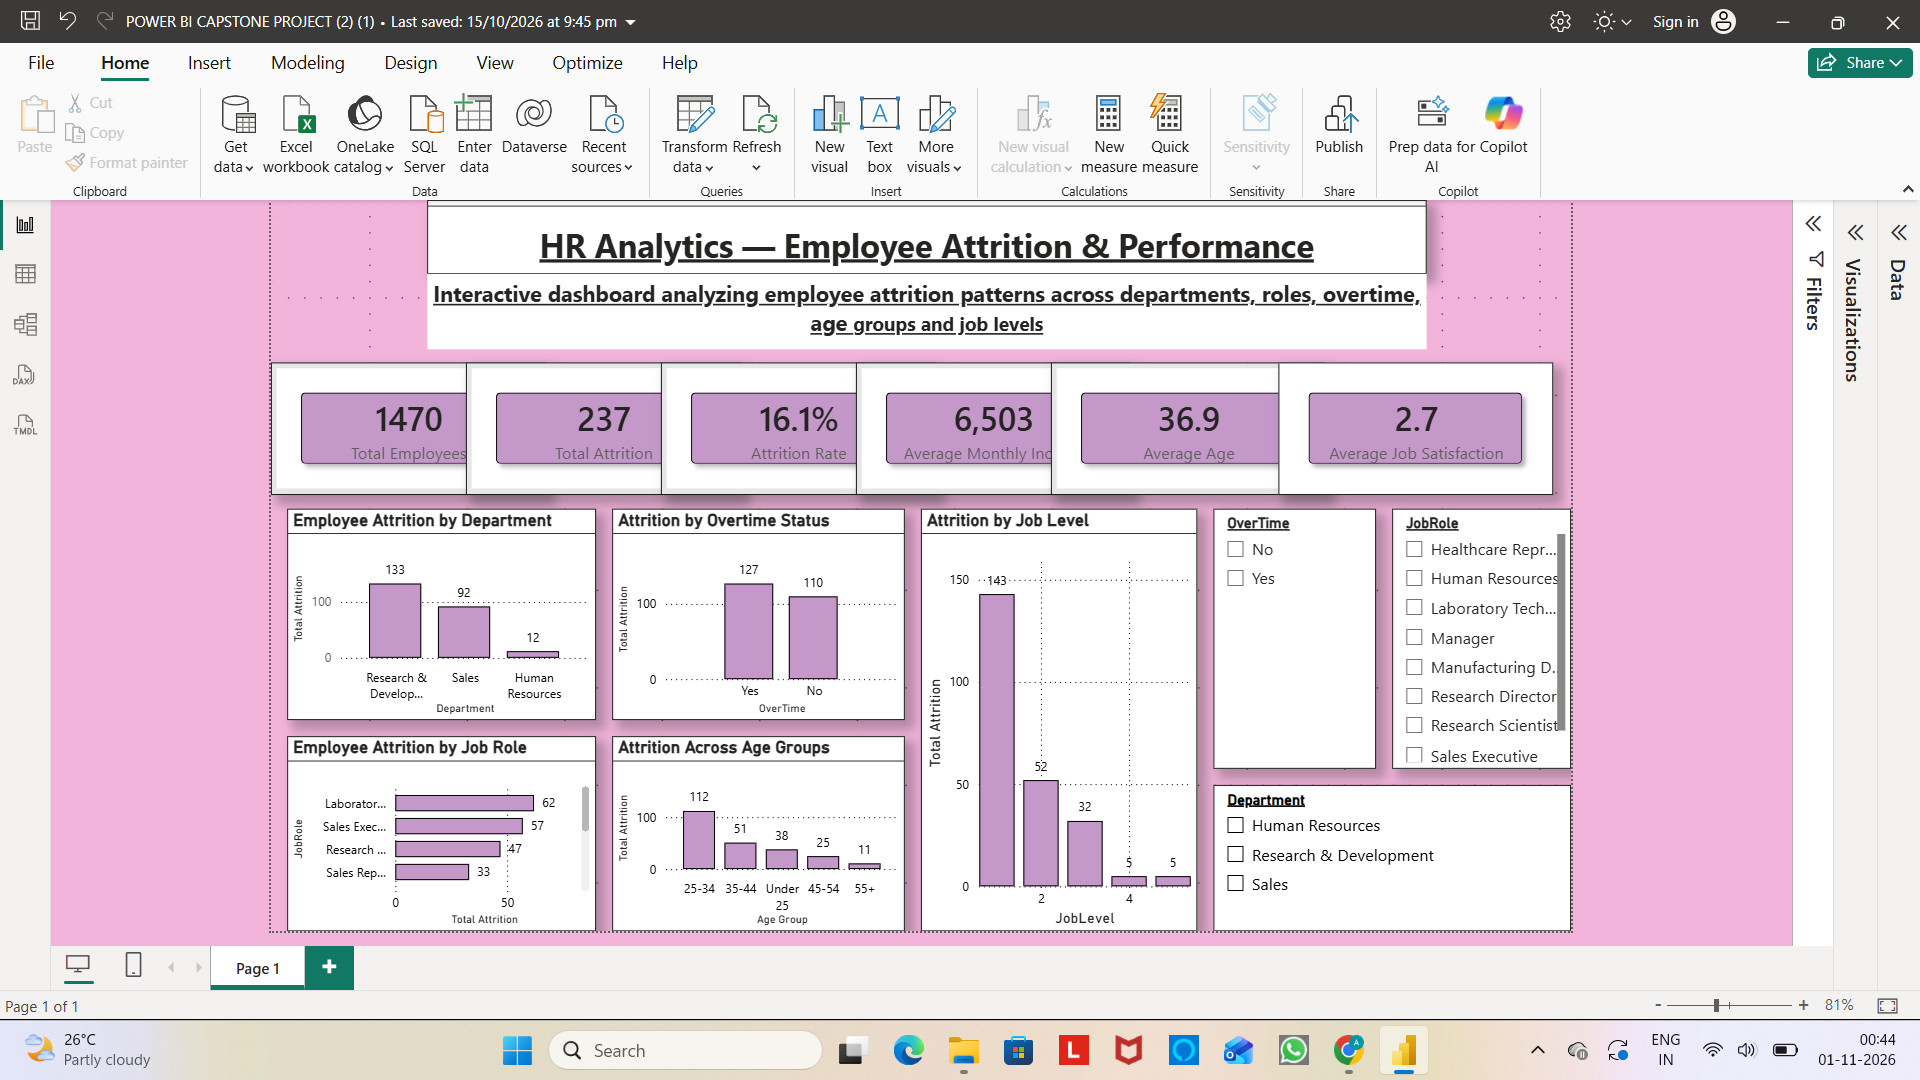

This screenshot's page, from the dashboard's own definition file:
{"tool":"powerbi","page":{"name":"Page 1","canvas":[1280,720],"ordinal":0},"visuals":[{"type":"cardVisual","fields":{"Data":["EmployeeData.Total Employees"]},"box":[9.6,130.4,207.2,149.6],"z":0},{"type":"cardVisual","fields":{"Data":["DateTable.Total Attrition"]},"box":[216.8,130.4,189.4,149.6],"z":1000},{"type":"cardVisual","fields":{"Data":["DateTable.Attrition Rate"]},"box":[406.2,130.4,189.4,149.6],"z":2000},{"type":"cardVisual","fields":{"Data":["EmployeeData.Average Monthly Income"]},"box":[595.5,130.4,259.3,149.6],"z":3000},{"type":"cardVisual","fields":{"Data":["EmployeeData.Average Age"]},"box":[854.9,130.4,183.9,149.6],"z":4000},{"type":"clusteredColumnChart","fields":{"Category":["EmployeeData.Department"],"Y":["EmployeeData.Total Attrition"]},"box":[9.6,299.1,325.2,223.7],"z":5000},{"type":"clusteredBarChart","fields":{"Category":["EmployeeData.JobRole"],"Y":["EmployeeData.Total Attrition"]},"box":[9.6,540.7,325.2,179.8],"z":6000},{"type":"clusteredColumnChart","fields":{"Category":["EmployeeData.OverTime"],"Y":["EmployeeData.Total Attrition"]},"box":[351.3,299.1,288.2,223.7],"z":7000},{"type":"clusteredColumnChart","fields":{"Category":["EmployeeData.Age Group"],"Y":["EmployeeData.Total Attrition"]},"box":[351.3,540.7,288.2,179.8],"z":8000},{"type":"clusteredColumnChart","fields":{"Category":["EmployeeData.JobLevel"],"Y":["EmployeeData.Total Attrition"]},"box":[650.4,299.1,256.6,421.3],"z":9000},{"type":"cardVisual","fields":{"Data":["EmployeeData.Average Job Satisfaction"]},"box":[1038.8,130.4,241.5,149.6],"z":10000},{"type":"slicer","fields":{"Values":["EmployeeData.Department"]},"box":[920.8,299.1,231.9,138.6],"z":11000},{"type":"slicer","fields":{"Values":["EmployeeData.JobRole"]},"box":[922.1,448.7,231.9,271.7],"z":12000},{"type":"slicer","fields":{"Values":["EmployeeData.OverTime"]},"box":[1171.9,387,98.8,163.3],"z":13000},{"type":"textbox","box":[140,0,997.6,91.9],"z":14000}]}

Visuals, with their boxes on the page's 1280x720 design canvas (x1, y1, x2, y2). These are canvas units, not pixel positions in the 1920x1080 screenshot, which may show the page scaled, cropped or inside an application window:
cardVisual - EmployeeData.Total Employees: box(10, 130, 217, 280)
cardVisual - DateTable.Total Attrition: box(217, 130, 406, 280)
cardVisual - DateTable.Attrition Rate: box(406, 130, 596, 280)
cardVisual - EmployeeData.Average Monthly Income: box(596, 130, 855, 280)
cardVisual - EmployeeData.Average Age: box(855, 130, 1039, 280)
clusteredColumnChart - EmployeeData.Department x EmployeeData.Total Attrition: box(10, 299, 335, 523)
clusteredBarChart - EmployeeData.JobRole x EmployeeData.Total Attrition: box(10, 541, 335, 720)
clusteredColumnChart - EmployeeData.OverTime x EmployeeData.Total Attrition: box(351, 299, 640, 523)
clusteredColumnChart - EmployeeData.Age Group x EmployeeData.Total Attrition: box(351, 541, 640, 720)
clusteredColumnChart - EmployeeData.JobLevel x EmployeeData.Total Attrition: box(650, 299, 907, 720)
cardVisual - EmployeeData.Average Job Satisfaction: box(1039, 130, 1280, 280)
slicer - EmployeeData.Department: box(921, 299, 1153, 438)
slicer - EmployeeData.JobRole: box(922, 449, 1154, 720)
slicer - EmployeeData.OverTime: box(1172, 387, 1271, 550)
textbox: box(140, 0, 1138, 92)
